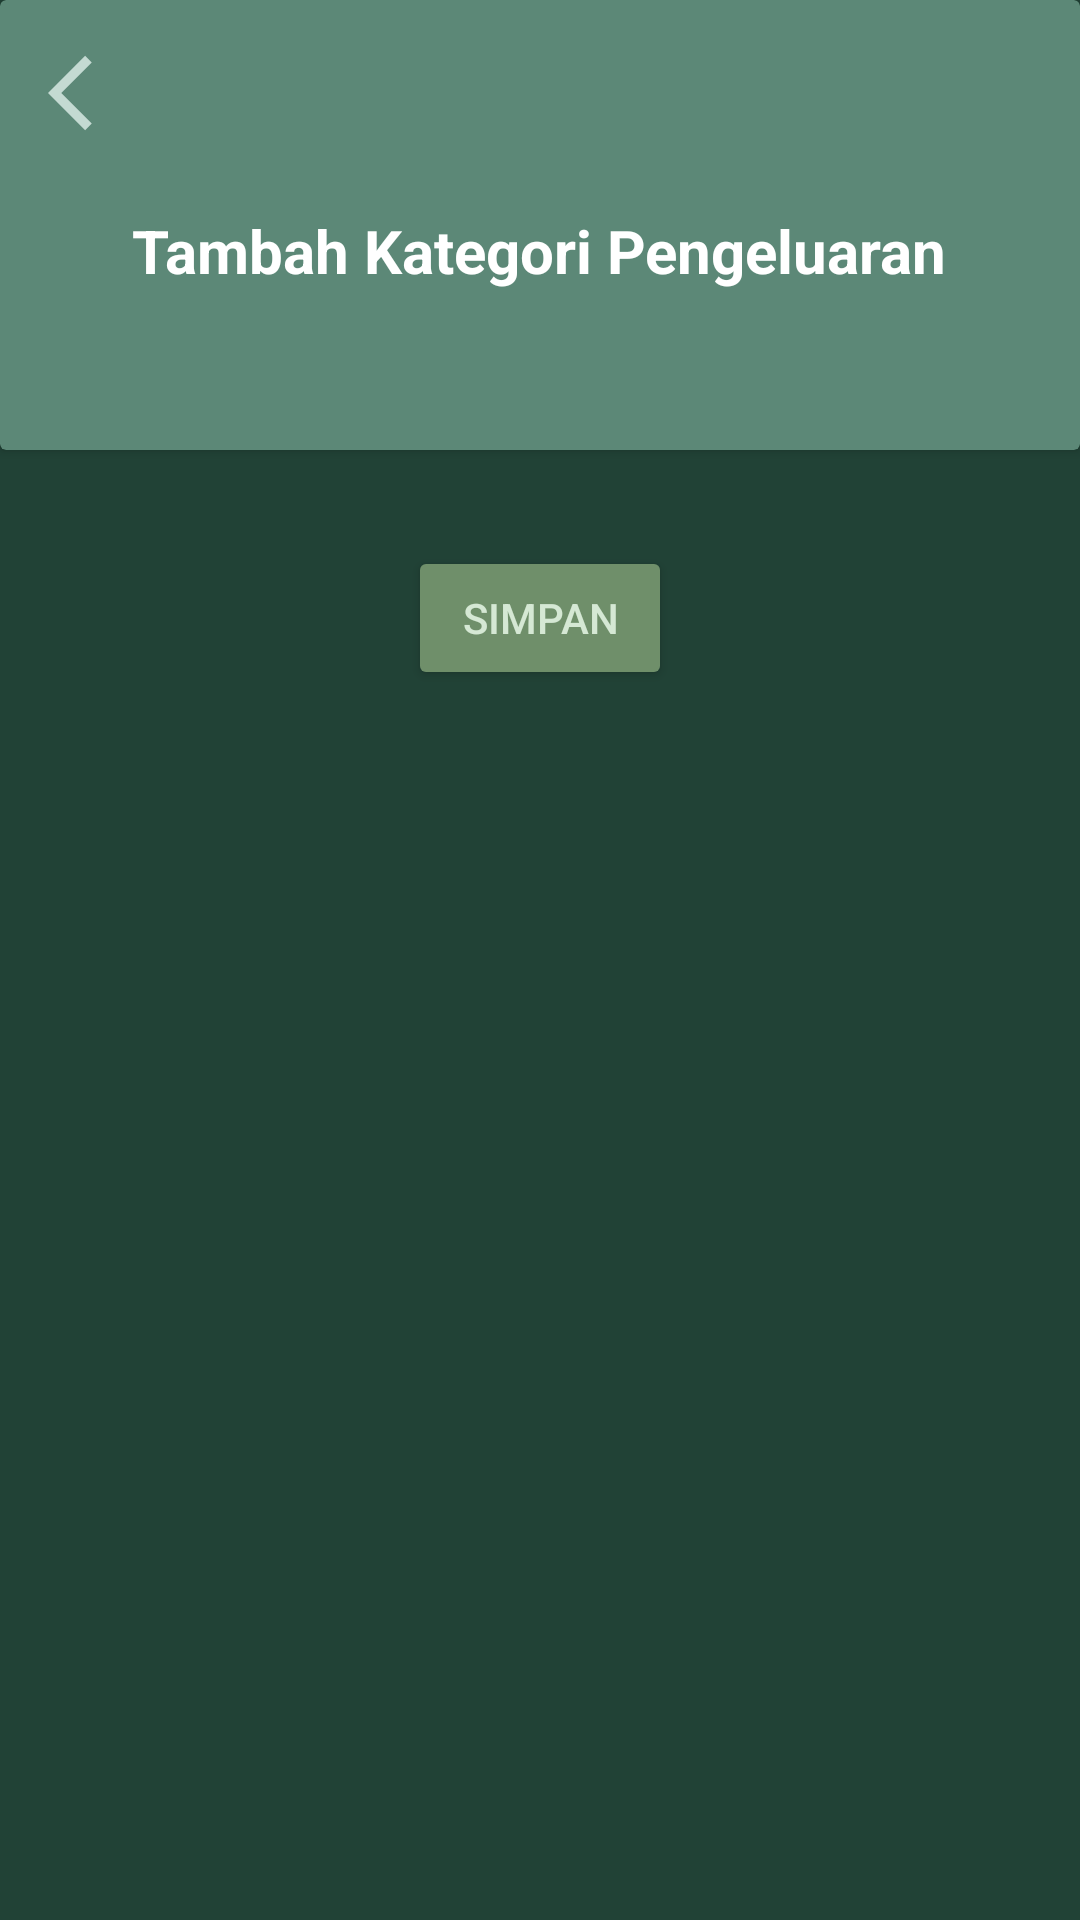

Named icons in this screenshot (1080px×1920px) and their bounding boxes, Rect(x1, y1, x2, y2):
arrow left: Rect(48, 56, 92, 130)
